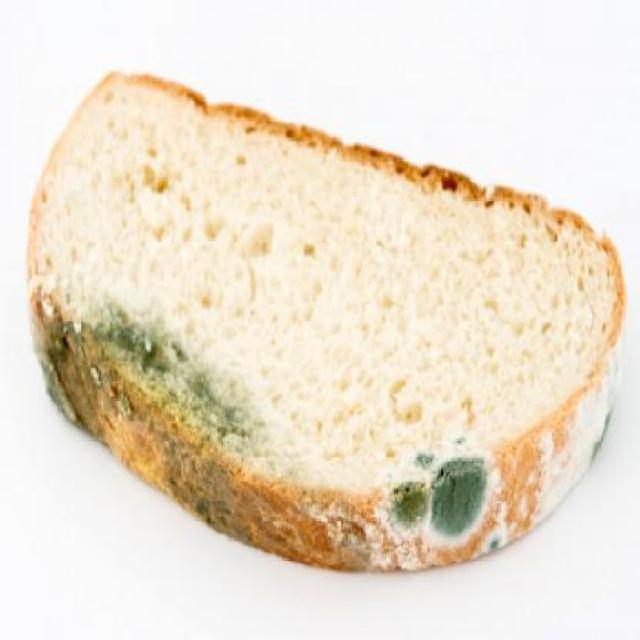mold_bread: (33, 292, 261, 554), (374, 445, 515, 563), (569, 363, 628, 465)
